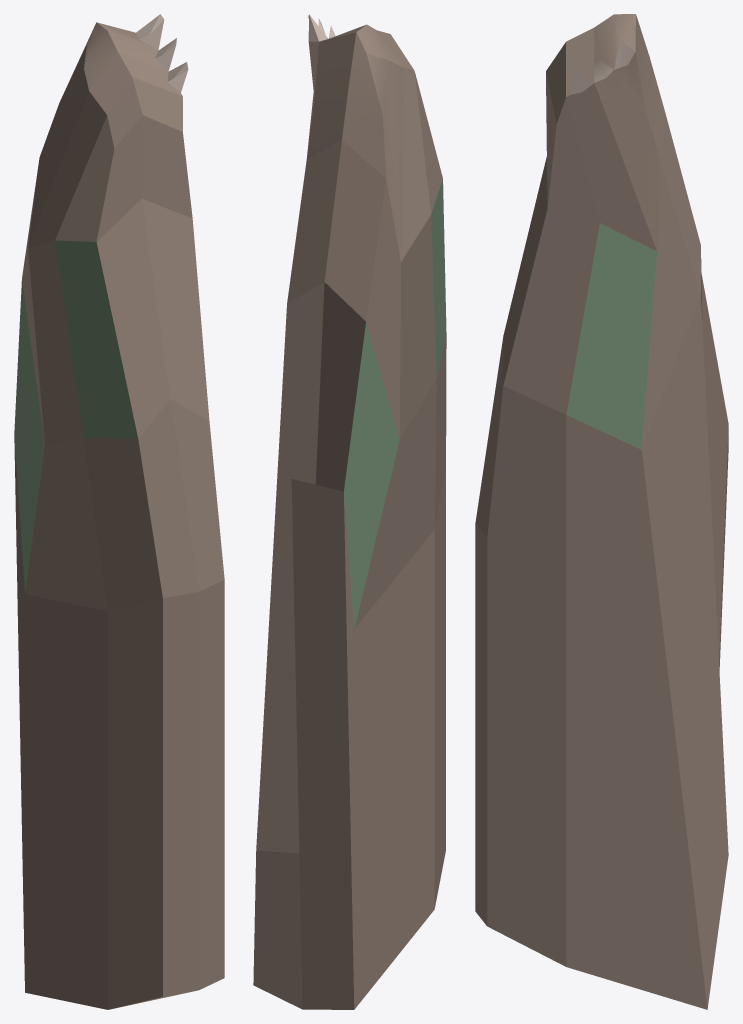
Rendered from right_arm.fbx.
3 renders of one model, left to right at view 1: azimuth 30°, elevation 25°; view 2: azimuth 150°, elevation 25°; view 3: azimuth 270°, elevation 25°, orthographic. The views are drawn at different scales.
Visible parts, largest first — view 1: pasted__pCube7; view 2: pasted__pCube7; view 3: pasted__pCube7.
Part boxes in pixels (<box>): pasted__pCube7: <box>14,14,224,1009</box>; pasted__pCube7: <box>253,14,446,1009</box>; pasted__pCube7: <box>475,14,728,1009</box>.
Bounding box in the file's own units: 0.6501 × 4.76 × 1.12.
